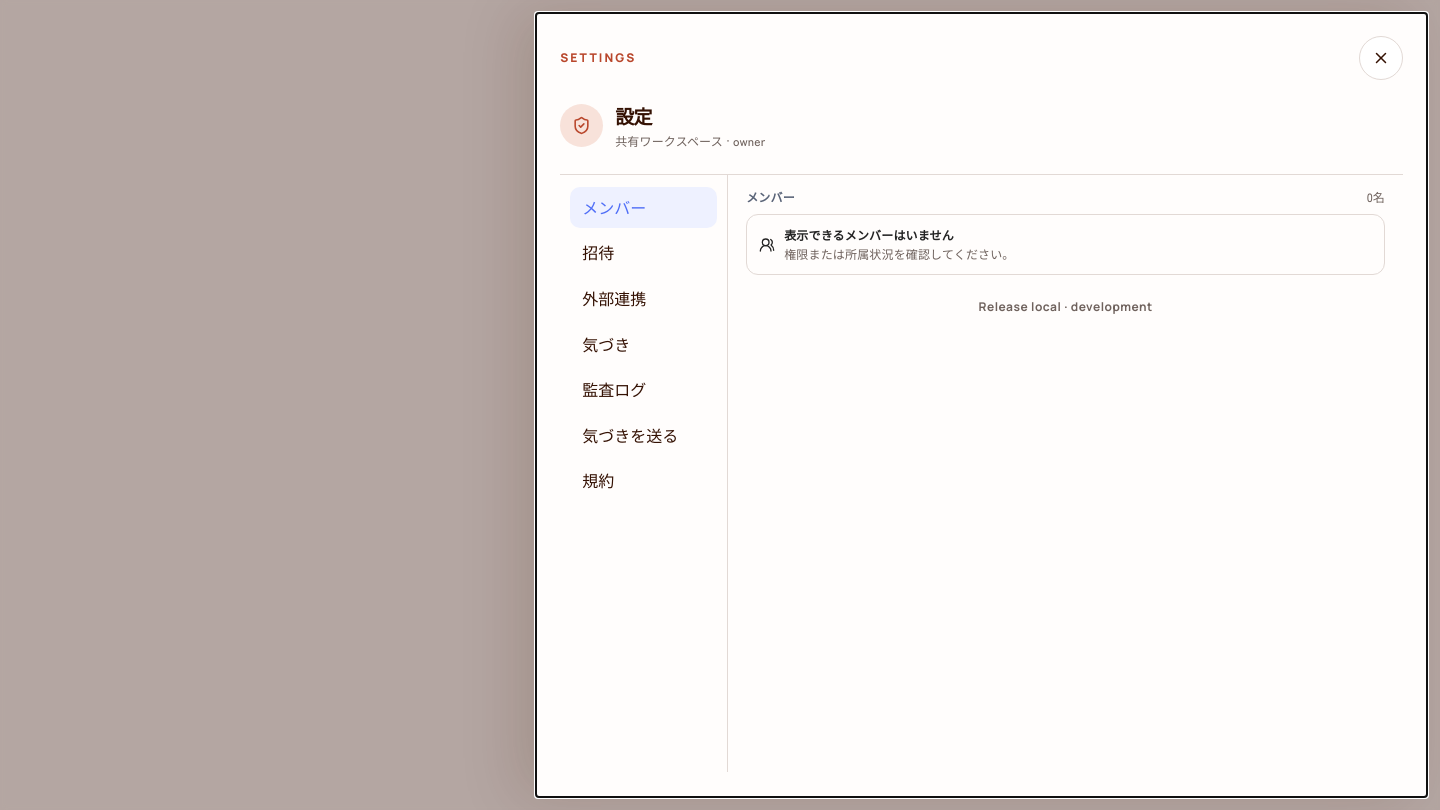
Test: OperationsPanel external mcp servers › stops an approved server after confirmation
Click the button "外部連携". click: (644, 299)
box: [570,278,717,320]
(page scrolled)
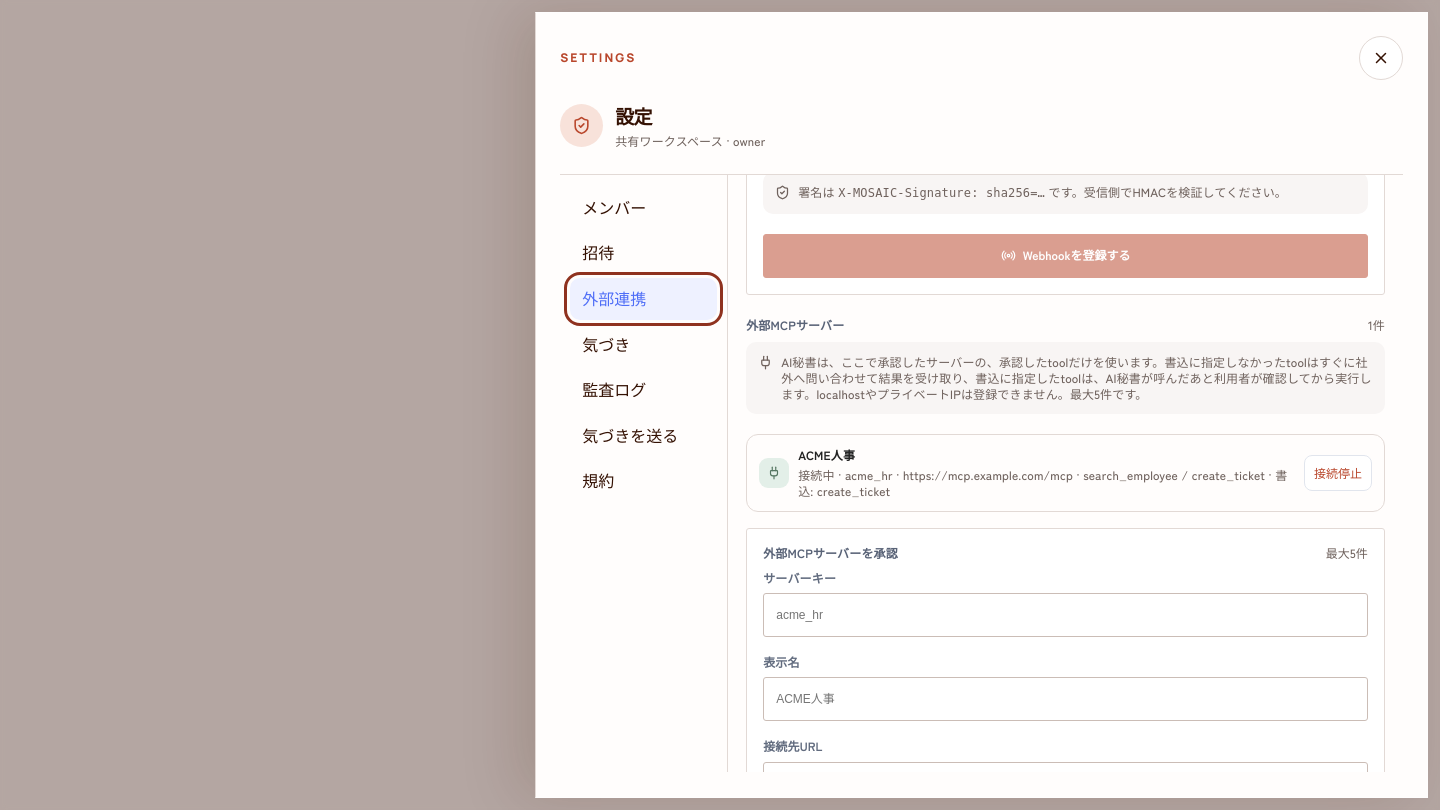
Click the button "接続停止". click: (1338, 473)
box: [1304,455,1372,491]
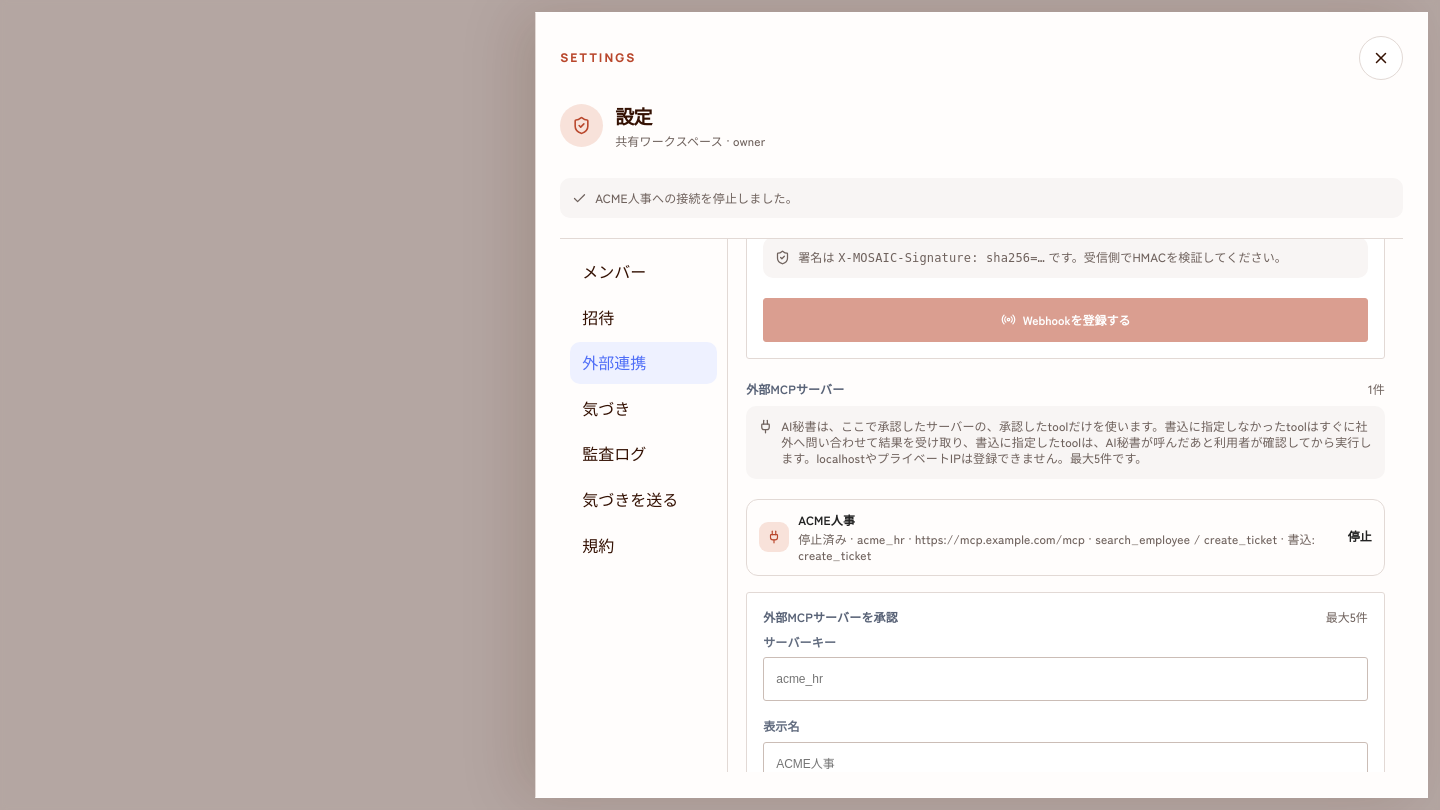
Expected: the text "接続を停止しました" is shown, [595,189,798,206]
